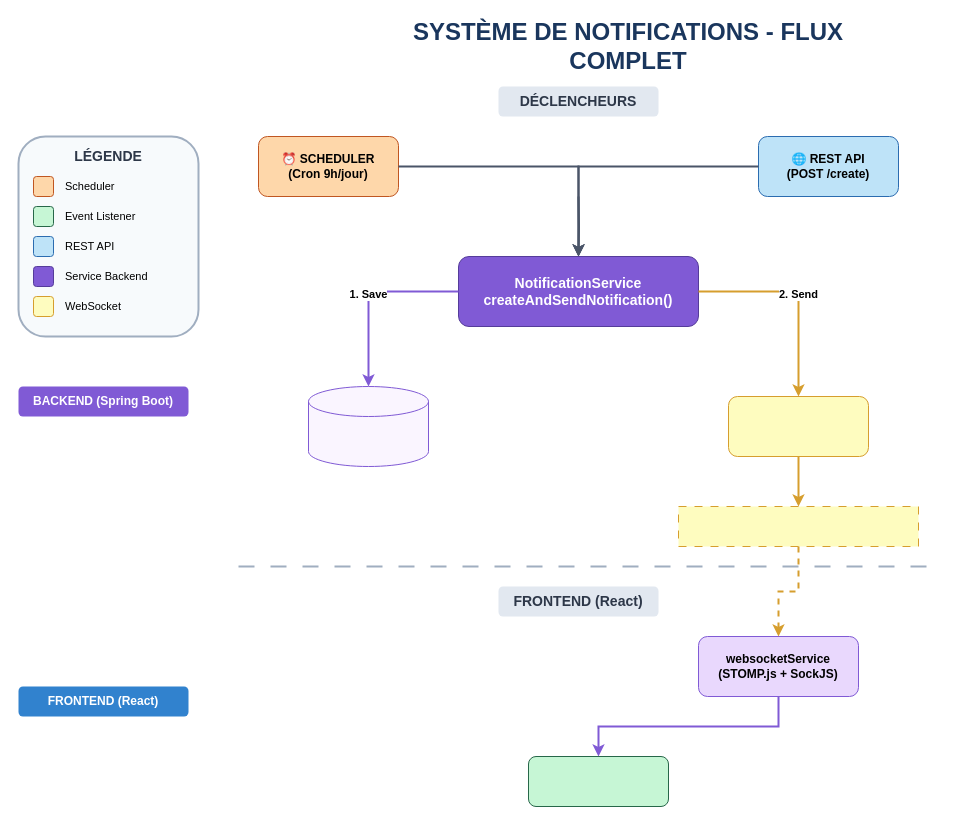
The diagram is 957 pixels wide and 824 high, and some of its shapes have lost their labels. The shapes that lost their labels are listed below. From the top down, each one's centre as x and y in pixels, then its label:
the point at 368,426: 🗄️ PostgreSQL (Persistance)
the point at 798,426: ⚡ WebSocket STOMP Broker
the point at 798,526: /topic/notifications/{freelancerId}
the point at 598,781: NotificationContext (State Update)
